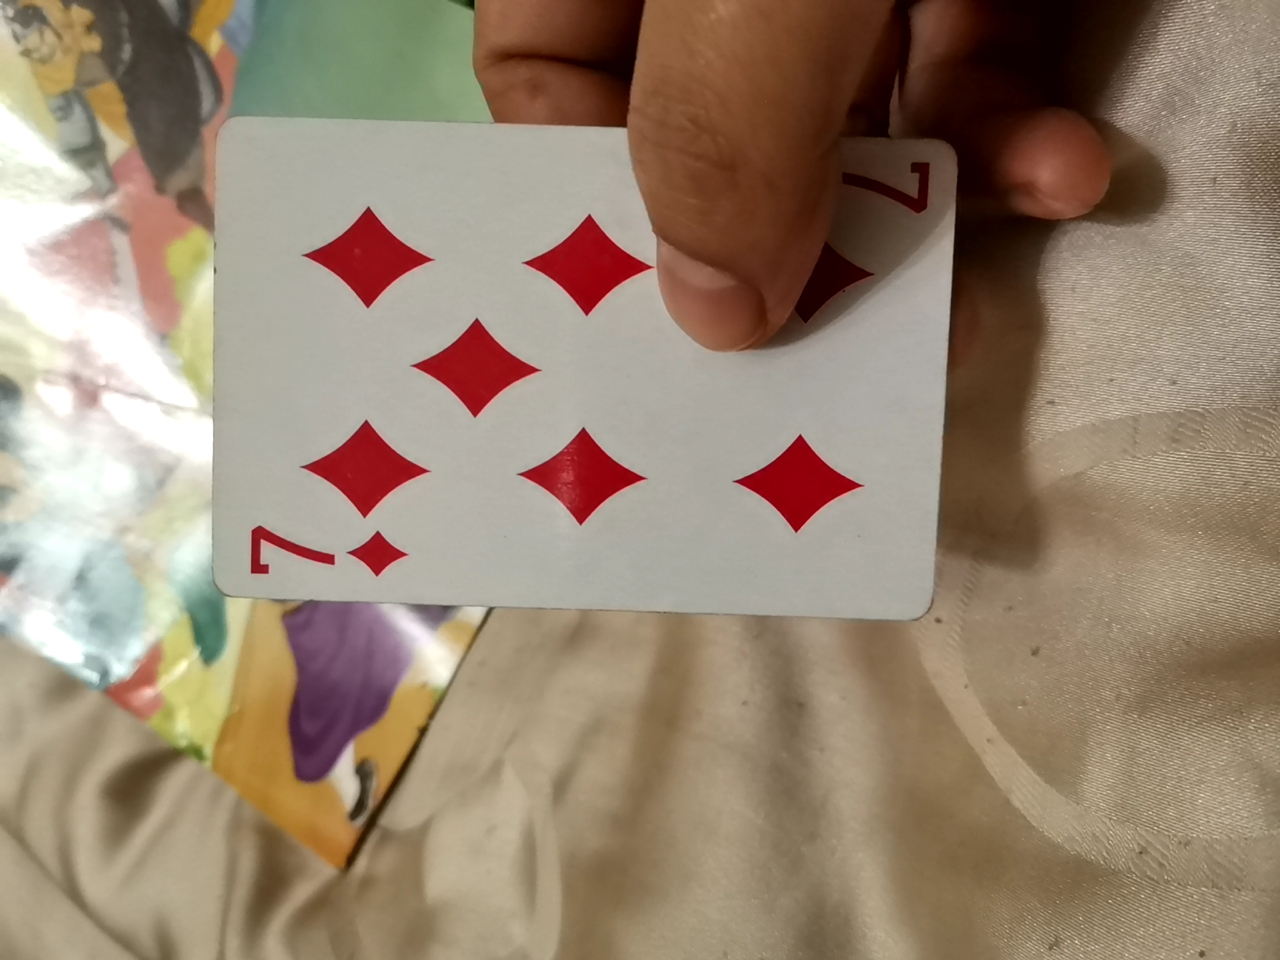fk 7: (201, 121, 969, 655)
